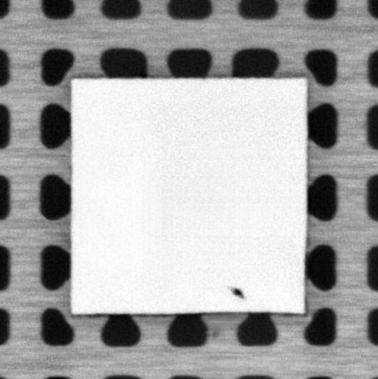DIE_INK: (229, 283, 244, 300)
